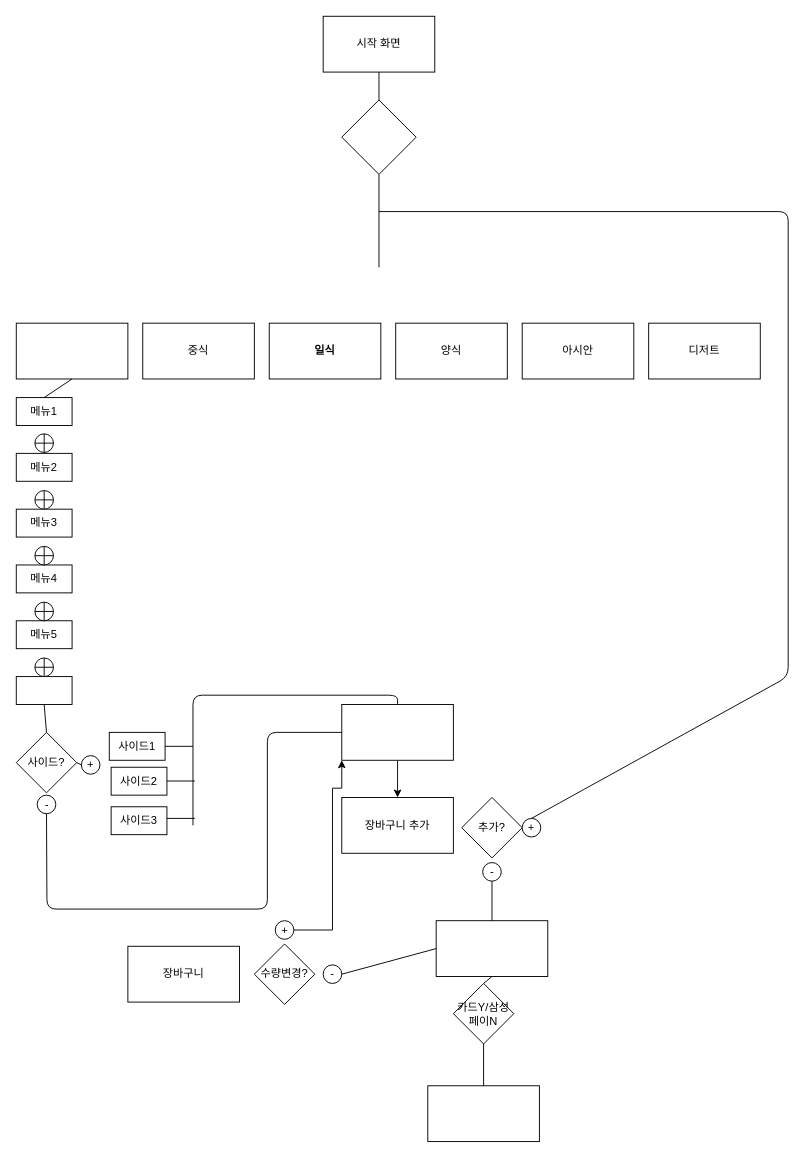
Some shapes in this 805 by 1158 pixel diagram are drawn without their labels. The centre of each missing label's shape, as x and y in pixels:
결제: pixel 491 948
매장Y/포장N: pixel 378 136
메뉴w사이드: pixel 43 690
수량: pixel 397 732
영수증 출력: pixel 483 1113
한식: pixel 71 350
